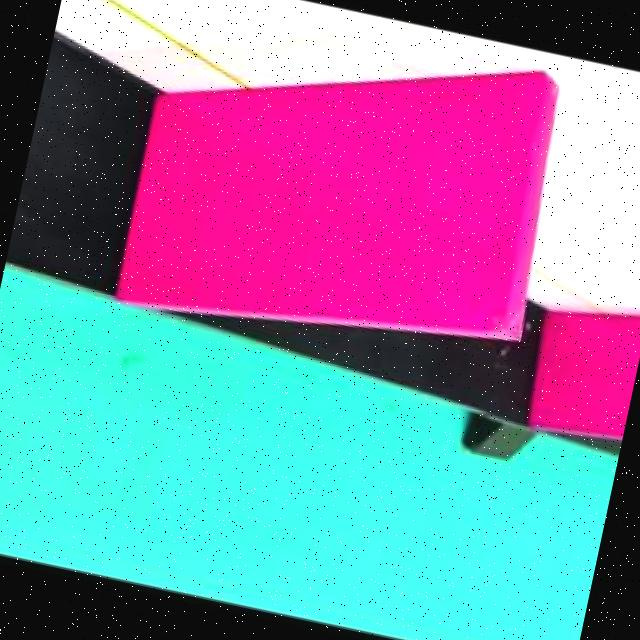xparking: (140, 7, 550, 328), (541, 305, 640, 430)
